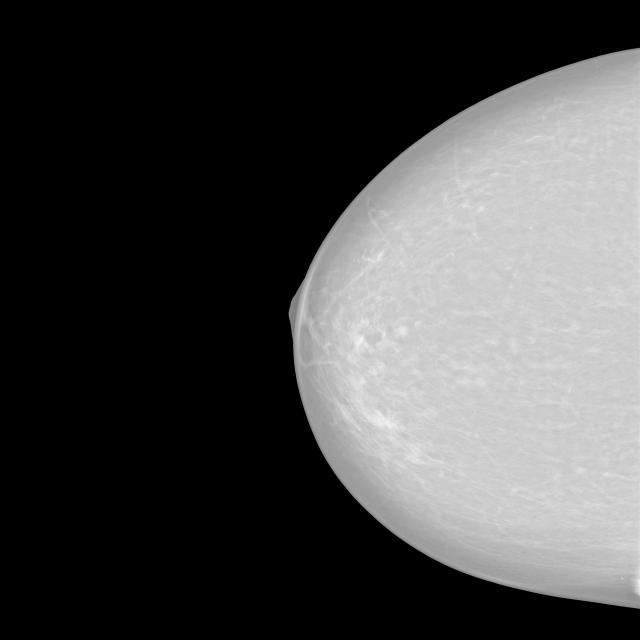Mass_1: (352, 401, 417, 440)
